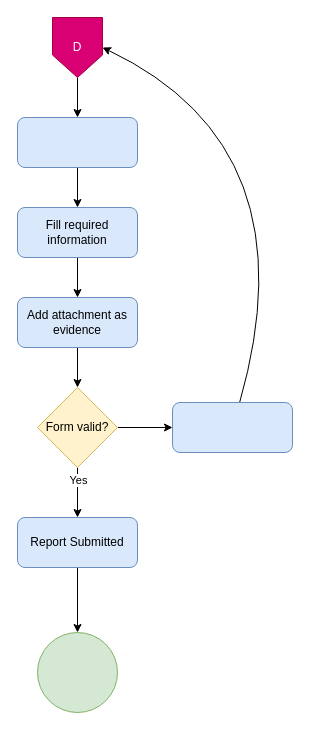
Some shapes in this 310 by 730 pixel diagram are drawn without their labels. The shapes that lost their labels are listed below. From the top down, each one's centre as x and y in pixels, then its label:
At point 77,142: "Select report type".
At point 232,427: "Display error message".
At point 77,672: "End".
